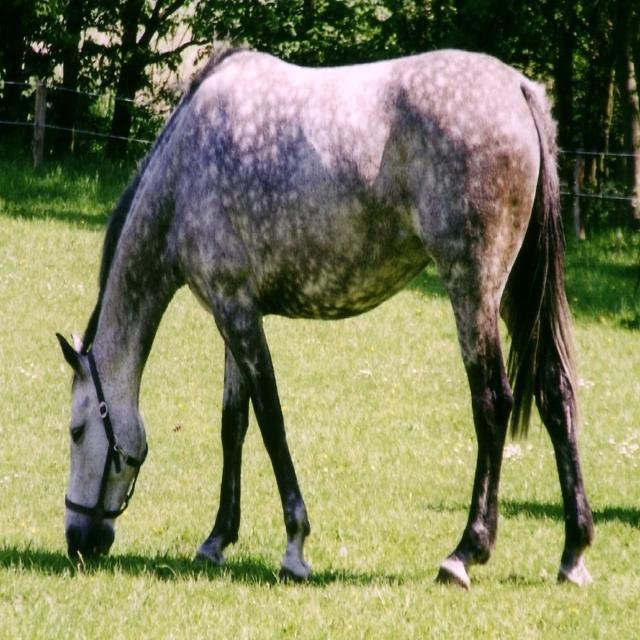Horse: (63, 44, 601, 591)
